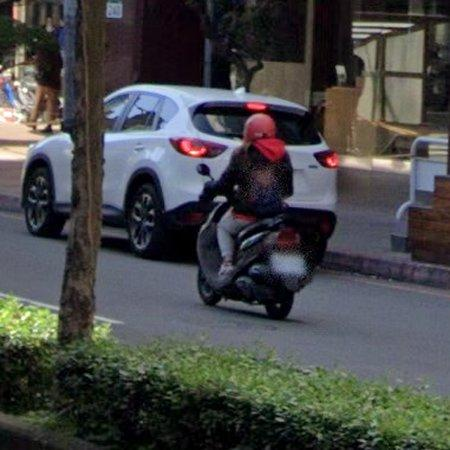motorcycles: (197, 204, 335, 320)
